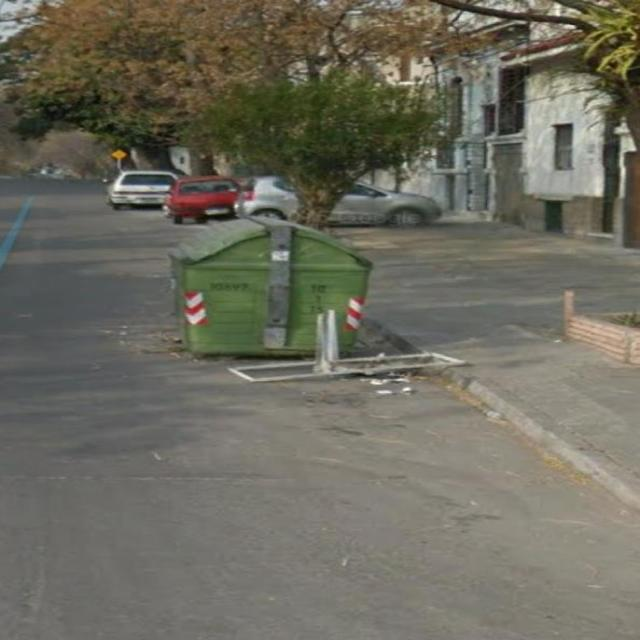garbage: (223, 306, 476, 392)
